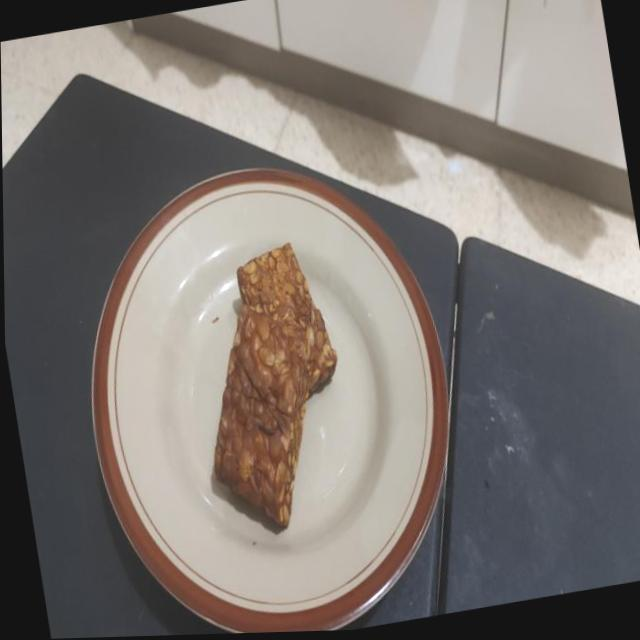tempe_goreng: (215, 304, 312, 526), (238, 242, 338, 397)
